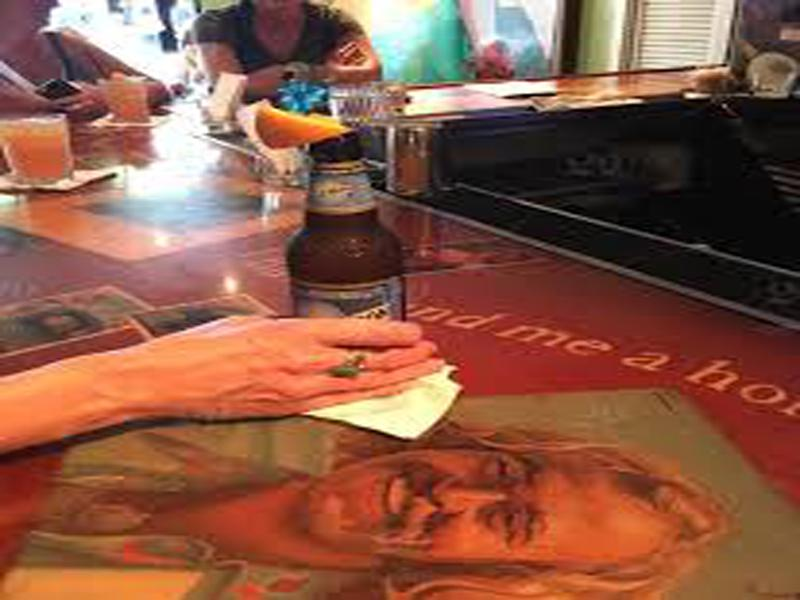Beer: (294, 126, 410, 398)
